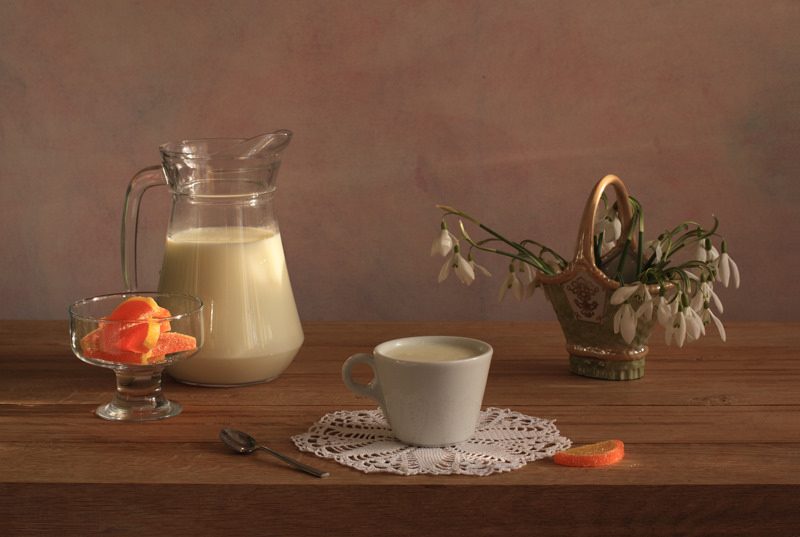glass of milk: (159, 198, 296, 387)
